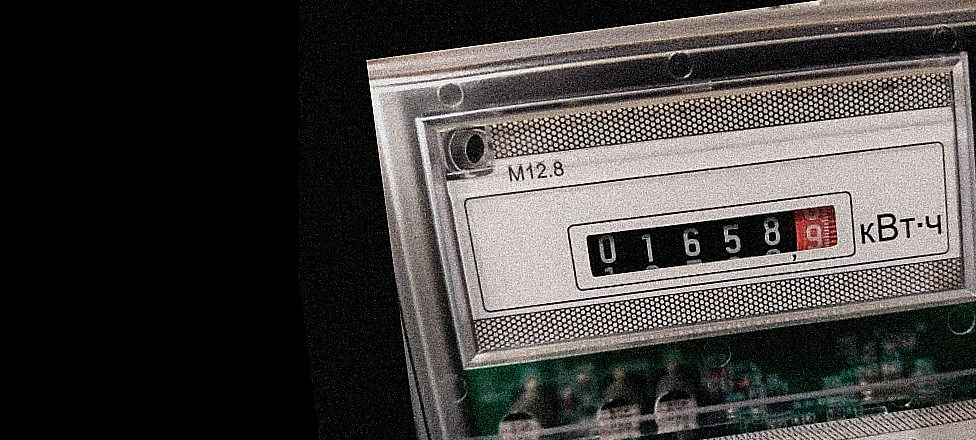0: (596, 232, 619, 264)
1: (639, 230, 660, 264)
5: (720, 220, 745, 254)
6: (680, 223, 704, 258)
8: (761, 212, 785, 246)
9: (802, 221, 827, 251)
screen: (557, 178, 865, 300)
